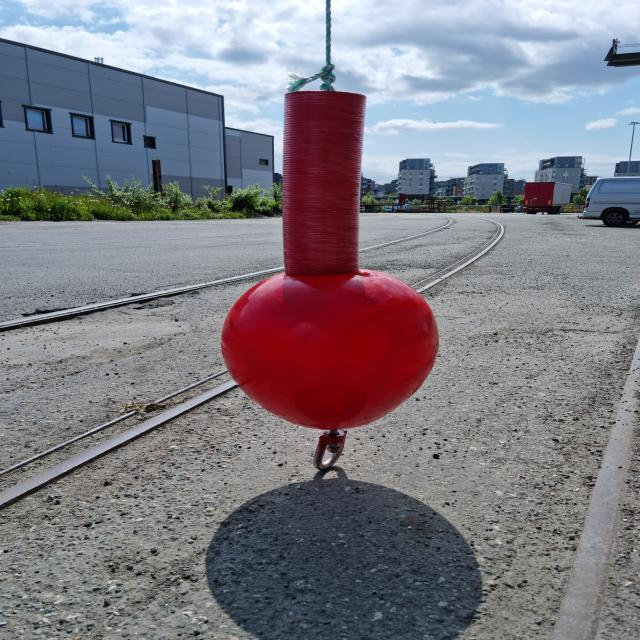red: (220, 93, 440, 430)
